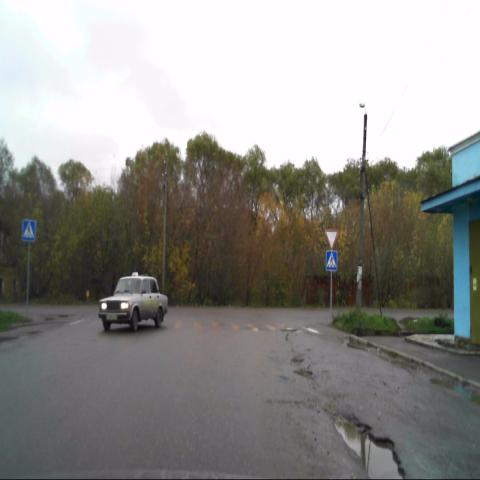2_4: (325, 229, 338, 251)
5_19_1: (22, 219, 36, 243), (325, 250, 338, 271)
